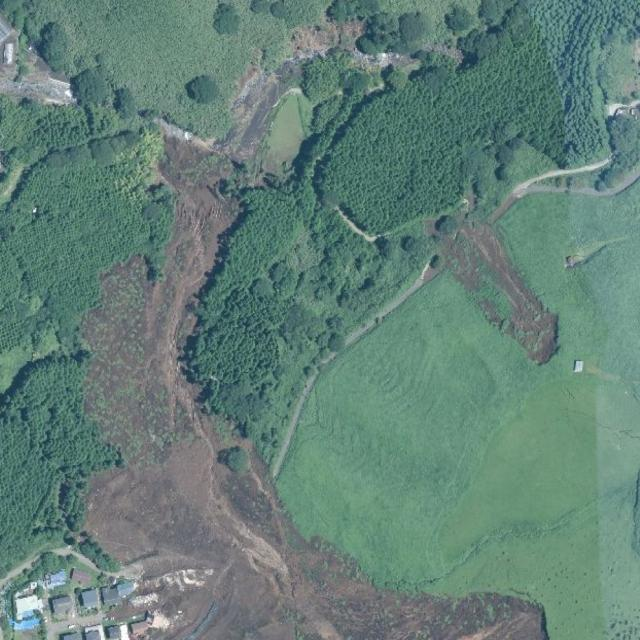landslide: (82, 138, 532, 640), (432, 215, 560, 364), (219, 50, 312, 162), (251, 102, 253, 105)
